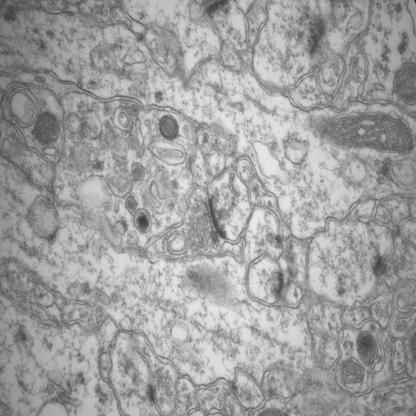mitochondria: (299, 110, 416, 156), (392, 58, 416, 105), (33, 109, 60, 146), (338, 356, 366, 388), (356, 330, 381, 365), (158, 111, 181, 143)
